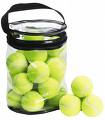tennis ball: (72, 74, 95, 100), (81, 94, 104, 118), (21, 89, 44, 112), (27, 61, 49, 84), (59, 94, 81, 117), (38, 76, 59, 100), (6, 52, 28, 74), (13, 73, 33, 95), (47, 57, 66, 78), (49, 87, 67, 107), (7, 89, 22, 109), (25, 50, 49, 60), (48, 45, 64, 58), (22, 33, 45, 41)
